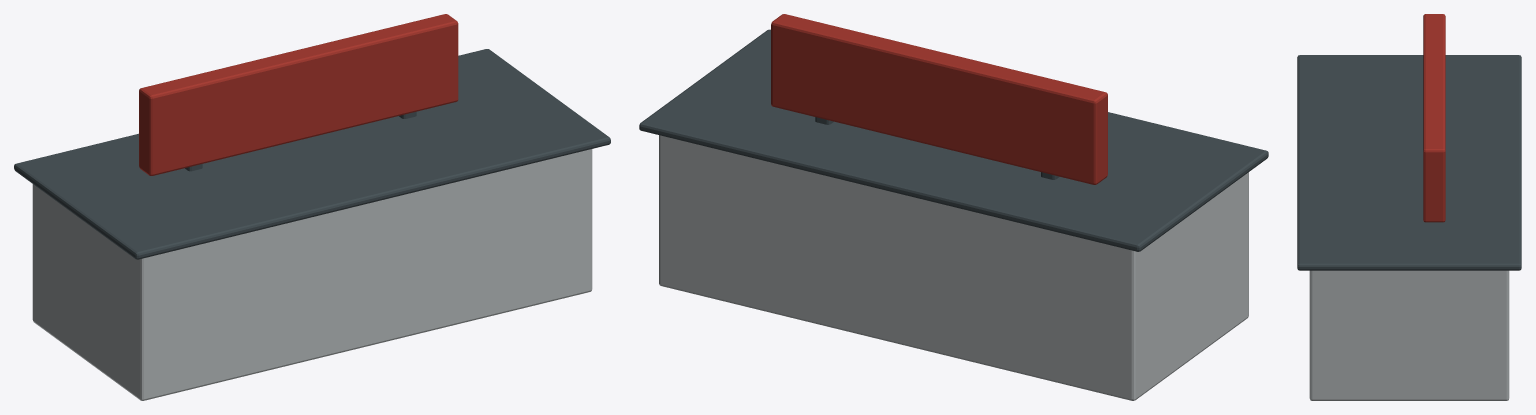
3 renders of one model, left to right at view 1: azimuth 30°, elevation 25°; view 2: azimuth 150°, elevation 25°; view 3: azimuth 270°, elevation 25°, orthographic. The views are drawn at different scales.
Parts seen in each view (by area): view 1: B06_CTL_Center_control_island, B06_CTL_Center_island_top, B06_CTL_Island_status_panel; view 2: B06_CTL_Center_control_island, B06_CTL_Center_island_top, B06_CTL_Island_status_panel; view 3: B06_CTL_Center_island_top, B06_CTL_Center_control_island, B06_CTL_Island_status_panel.
Boxes of the visible parts, left/top/right/bottom form: B06_CTL_Center_control_island: left=32, top=149, right=592, bottom=400; B06_CTL_Center_island_top: left=14, top=49, right=610, bottom=259; B06_CTL_Island_status_panel: left=139, top=14, right=458, bottom=175; B06_CTL_Center_control_island: left=659, top=135, right=1248, bottom=400; B06_CTL_Center_island_top: left=639, top=29, right=1268, bottom=251; B06_CTL_Island_status_panel: left=771, top=14, right=1107, bottom=184; B06_CTL_Center_island_top: left=1297, top=55, right=1521, bottom=270; B06_CTL_Center_control_island: left=1309, top=270, right=1509, bottom=400; B06_CTL_Island_status_panel: left=1423, top=14, right=1445, bottom=222.
Size of the model in its own units: 4 by 1.95 by 1.8.
